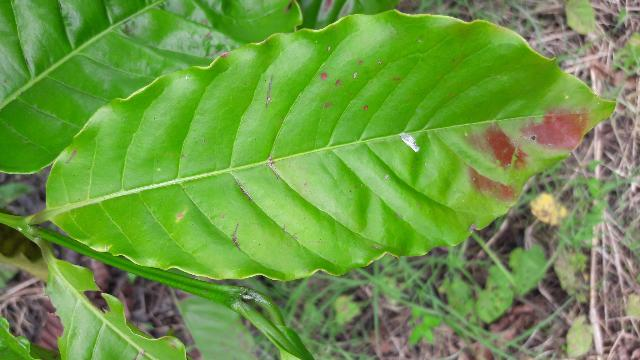red_spider_mite: (48, 9, 618, 278)
